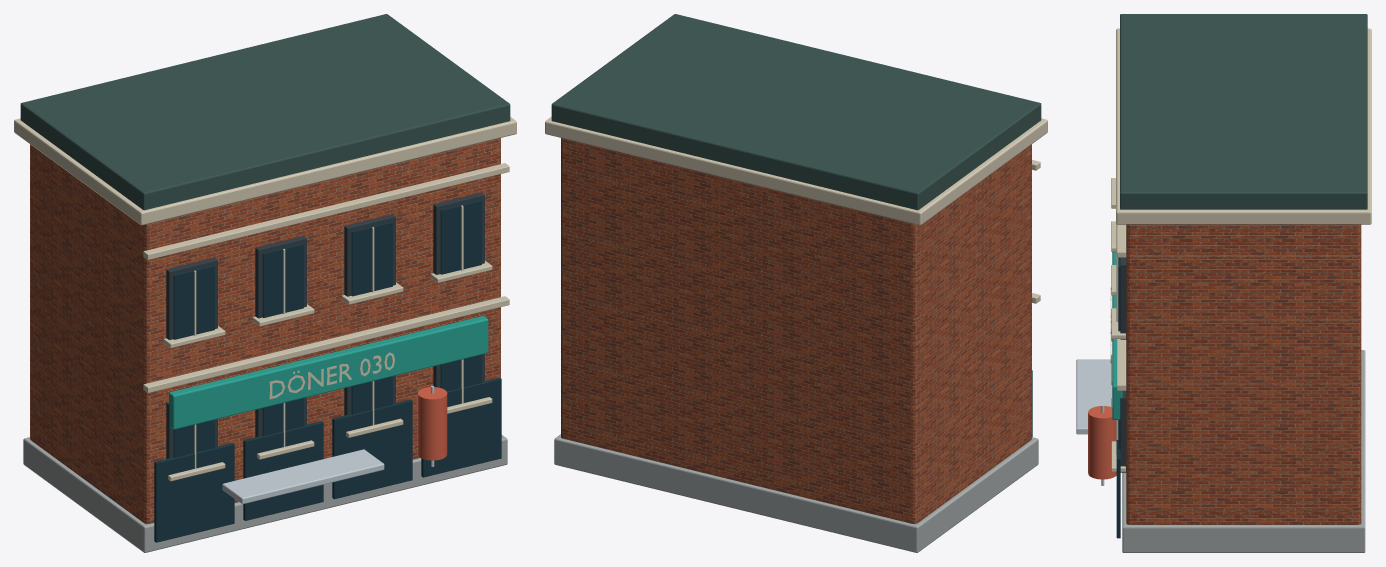
Rendered from doener-shop.glb.
3 renders of one model, left to right at view 1: azimuth 30°, elevation 25°; view 2: azimuth 150°, elevation 25°; view 3: azimuth 270°, elevation 25°, orthographic.
Visible parts, largest first — view 1: DC_Mesh_DC_Brick, DC_Mesh_DC_Roof, DC_Mesh_DC_BlueGlass, DC_Mesh_DC_Ivory, DC_Mesh_DC_Teal, DC_Mesh_DC_Concrete, DC_Mesh_DC_Steel, DC_Mesh_DC_Silver, DC_Mesh_DC_Coral; view 2: DC_Mesh_DC_Brick, DC_Mesh_DC_Roof, DC_Mesh_DC_Concrete, DC_Mesh_DC_Ivory; view 3: DC_Mesh_DC_Brick, DC_Mesh_DC_Roof, DC_Mesh_DC_Ivory, DC_Mesh_DC_Concrete, DC_Mesh_DC_Silver, DC_Mesh_DC_Coral, DC_Mesh_DC_Steel, DC_Mesh_DC_BlueGlass, DC_Mesh_DC_Teal.
Boxes of the visible parts, x1,y1,x2,y2 form: DC_Mesh_DC_Brick: (30,138,500,524); DC_Mesh_DC_Roof: (20,14,510,210); DC_Mesh_DC_BlueGlass: (154,200,501,542); DC_Mesh_DC_Ivory: (14,117,516,481); DC_Mesh_DC_Teal: (169,316,488,429); DC_Mesh_DC_Concrete: (23,435,507,552); DC_Mesh_DC_Steel: (166,192,484,458); DC_Mesh_DC_Silver: (222,386,434,504); DC_Mesh_DC_Coral: (418,387,447,460); DC_Mesh_DC_Brick: (561,138,1031,524); DC_Mesh_DC_Roof: (551,14,1041,210); DC_Mesh_DC_Concrete: (554,434,1038,552); DC_Mesh_DC_Ivory: (545,117,1047,303); DC_Mesh_DC_Brick: (1126,224,1361,524); DC_Mesh_DC_Roof: (1120,14,1367,209); DC_Mesh_DC_Ivory: (1110,28,1371,471); DC_Mesh_DC_Concrete: (1122,350,1365,552); DC_Mesh_DC_Silver: (1076,359,1112,485); DC_Mesh_DC_Coral: (1088,406,1116,479); DC_Mesh_DC_Steel: (1120,257,1126,472); DC_Mesh_DC_BlueGlass: (1116,257,1120,538); DC_Mesh_DC_Teal: (1112,252,1122,419).
Size of the model in its own units: 7.4 by 6.79 by 5.02.
9 materials, 1 textured.
